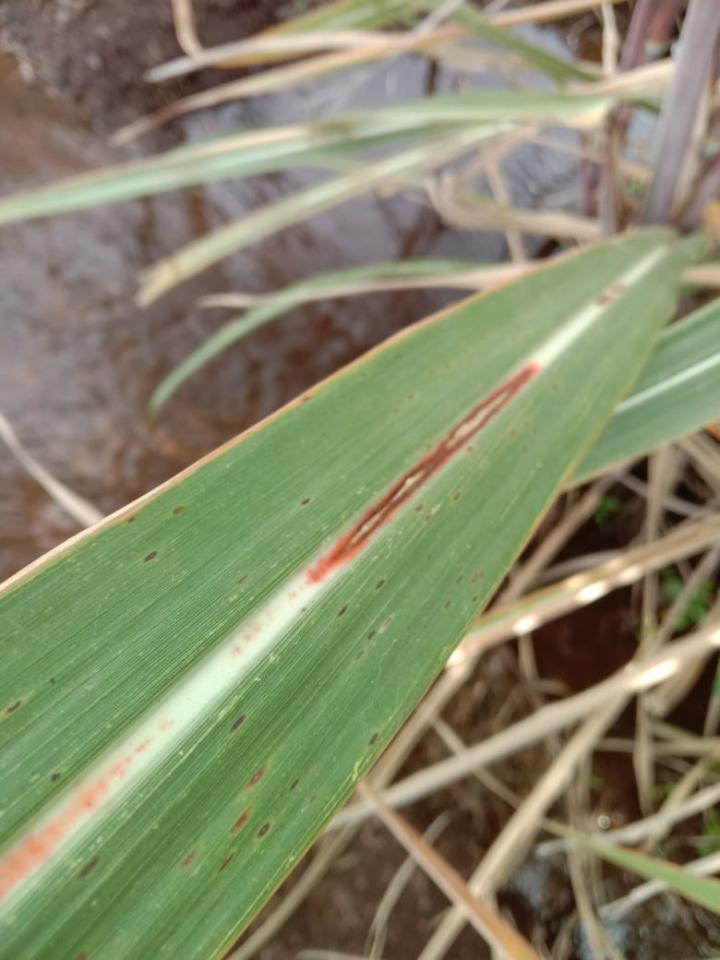RedRot: (304, 363, 538, 585), (0, 736, 153, 905), (243, 620, 263, 643), (609, 284, 625, 296), (598, 295, 612, 305), (161, 720, 172, 729), (288, 591, 296, 599), (232, 647, 240, 654), (299, 585, 303, 590)
Rust: (367, 613, 395, 640), (231, 805, 251, 831), (246, 763, 266, 789), (216, 851, 235, 874), (78, 858, 97, 877), (229, 713, 246, 733), (182, 847, 197, 869), (258, 822, 271, 839), (367, 732, 380, 746), (337, 604, 349, 618), (73, 950, 89, 959), (471, 572, 483, 584), (374, 579, 385, 592), (353, 650, 364, 661), (290, 777, 299, 790), (413, 503, 424, 512), (299, 498, 311, 506), (508, 427, 517, 437), (451, 492, 460, 501), (308, 795, 317, 803), (455, 574, 462, 584), (443, 600, 451, 608), (465, 445, 474, 452), (301, 606, 307, 614), (424, 513, 430, 521), (472, 595, 477, 602), (523, 446, 527, 453)
